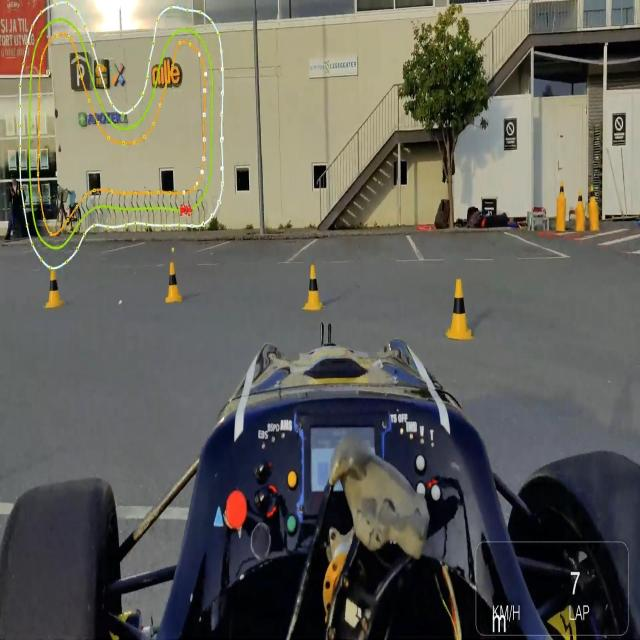yellow_cone: (433, 272, 478, 347), (38, 258, 74, 322), (157, 252, 187, 316), (300, 256, 328, 320)
